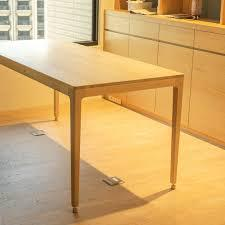desk: (0, 21, 210, 215)
